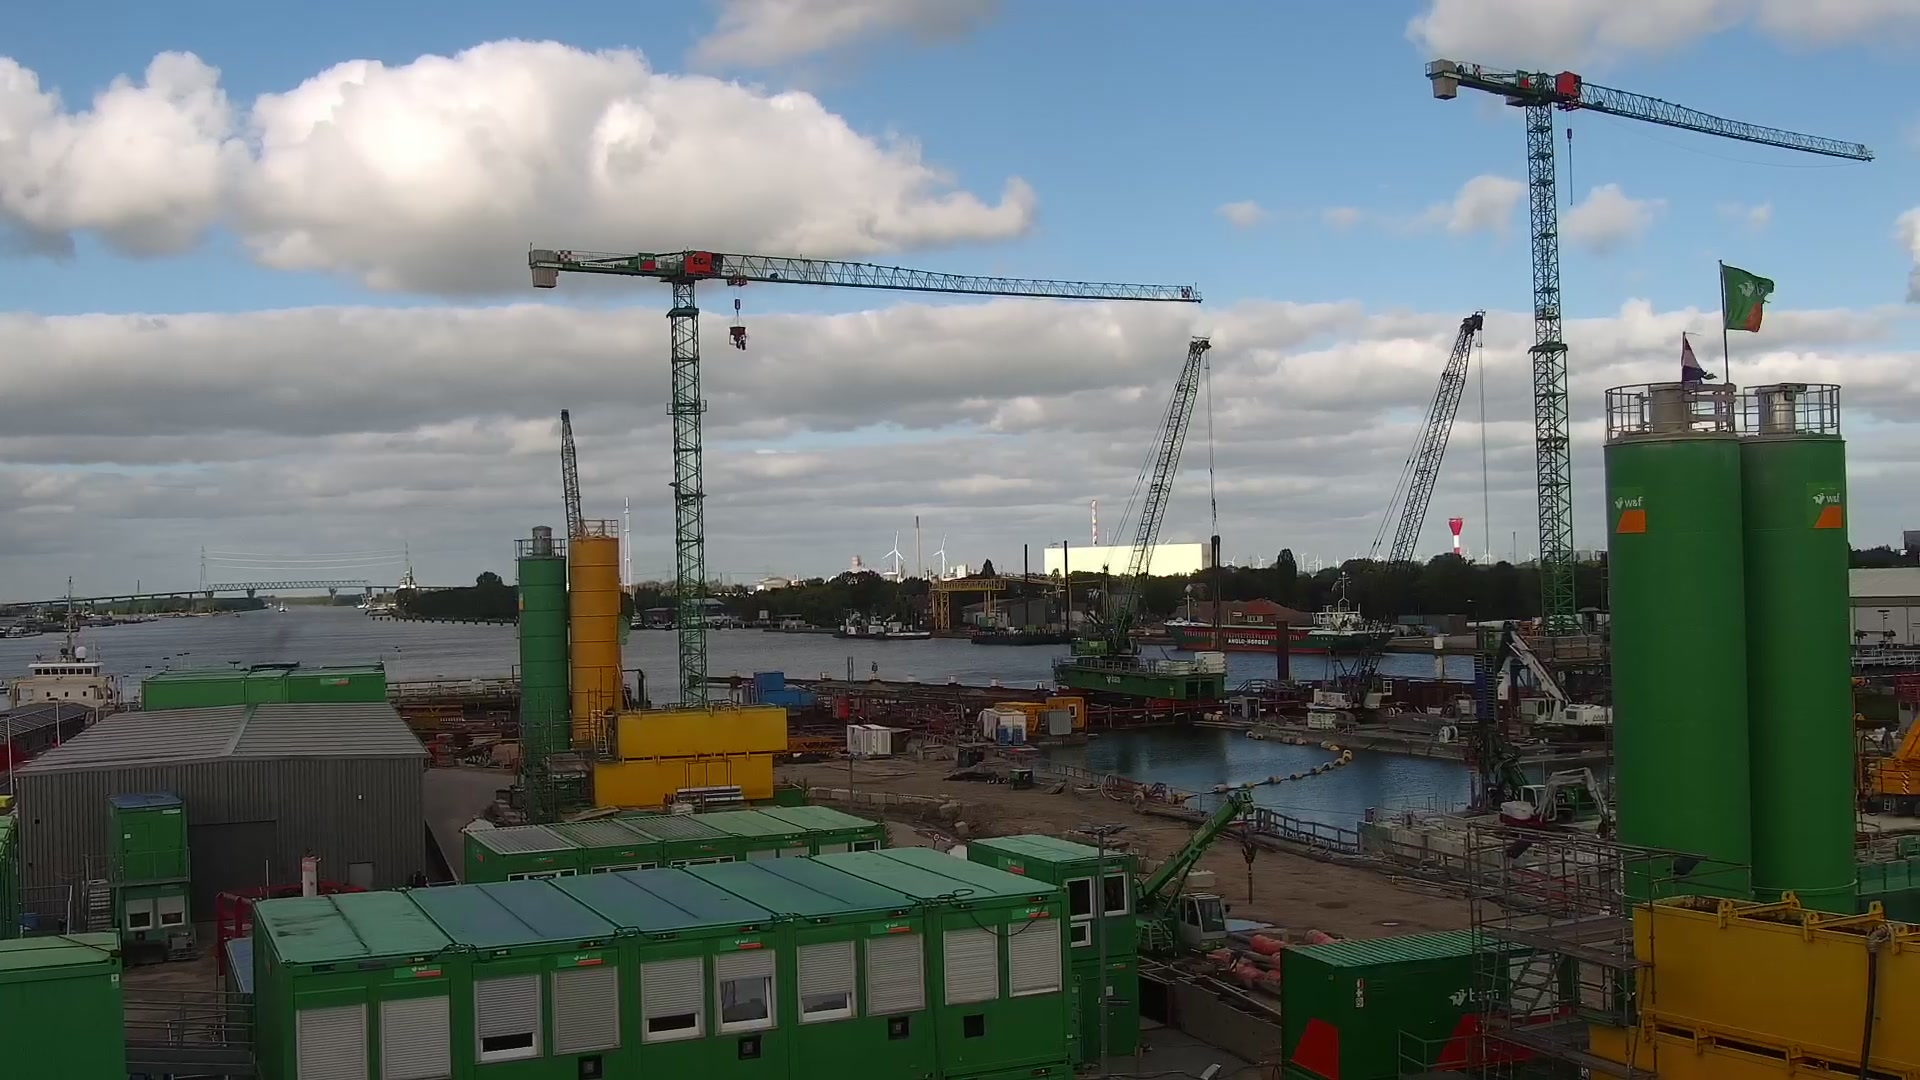human: (412, 867, 427, 888)
land: (1133, 788, 1256, 956), (1492, 626, 1615, 741), (1496, 764, 1615, 836)
sea: (1, 572, 125, 805), (1162, 568, 1396, 653), (835, 610, 933, 640), (833, 607, 888, 639), (630, 609, 640, 629), (277, 600, 290, 613), (232, 611, 241, 618)
